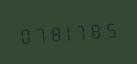eight: (45, 21, 58, 44), (87, 18, 100, 41)
five: (101, 17, 114, 40)
one: (59, 20, 72, 43)
seven: (31, 22, 44, 45), (73, 19, 86, 42)
zero: (17, 23, 30, 46)
